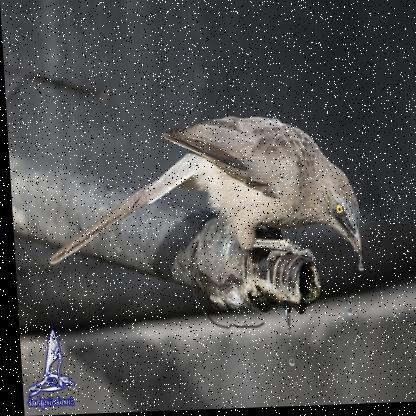Burung: (39, 112, 360, 273)
